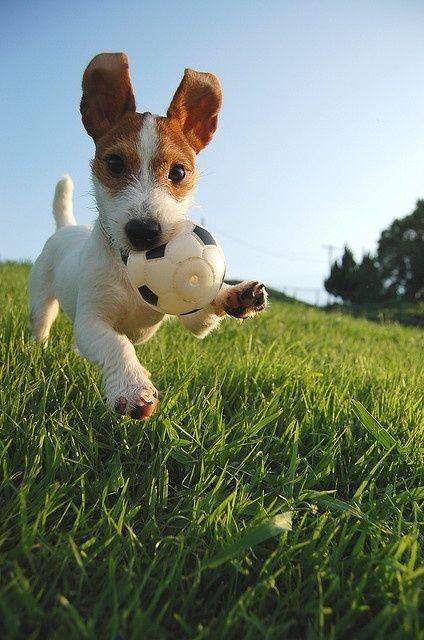puppy-dog: (18, 41, 275, 422)
